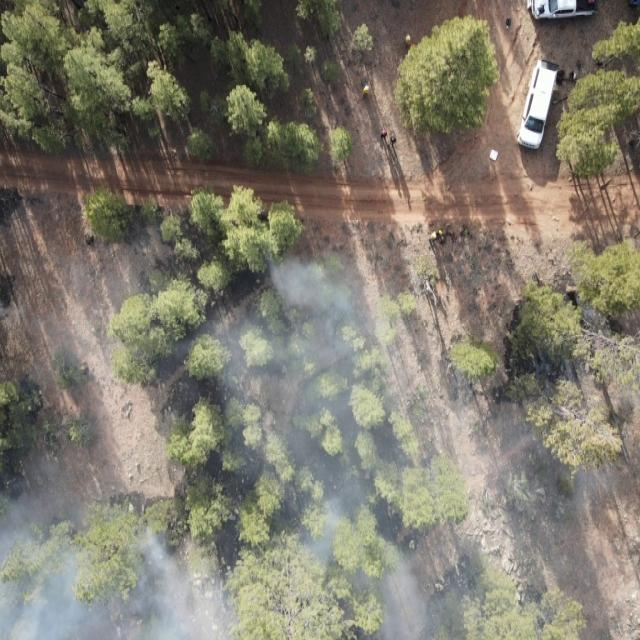smoke: (0, 214, 469, 640), (469, 354, 640, 640)
